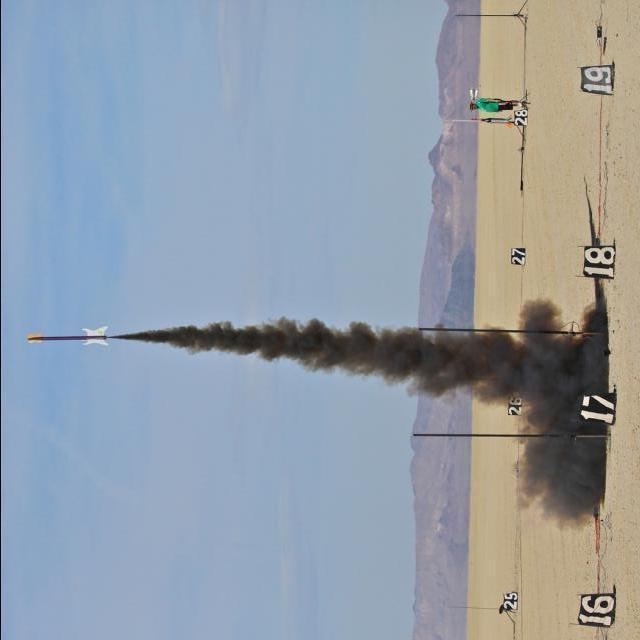missile: (27, 327, 114, 345)
